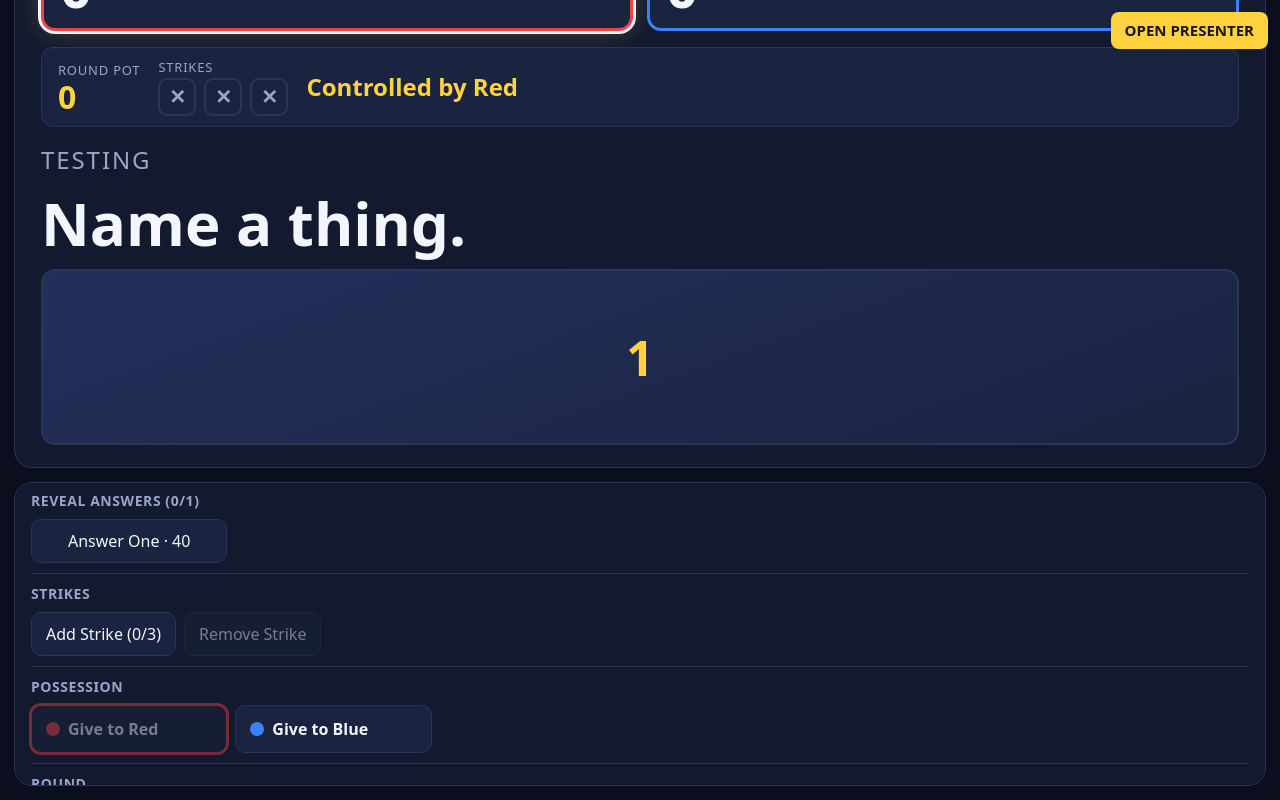
Test: Strike/steal wrong-answer presentation feedback › 17. reduced-motion mode still shows the X, just without the pop animation
(page scrolled)
Click the button "Add Strike (0/3)" at (104, 634), box [31,612,176,656]
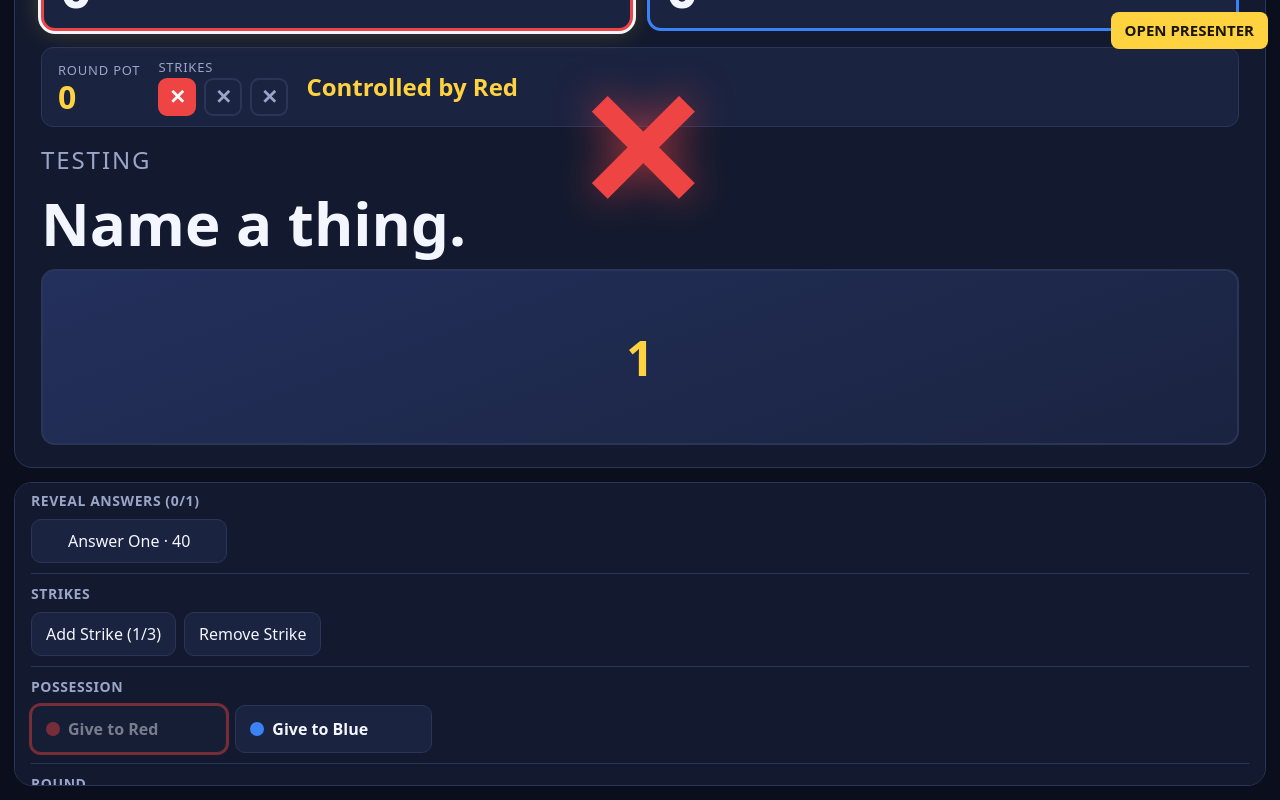
Now the text with class "wrong-answer-glyphs" reads "✕", box [573,38,707,256]
